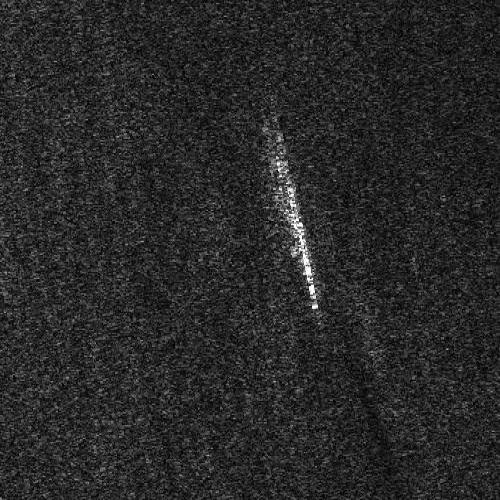ship: (277, 159, 319, 311)
